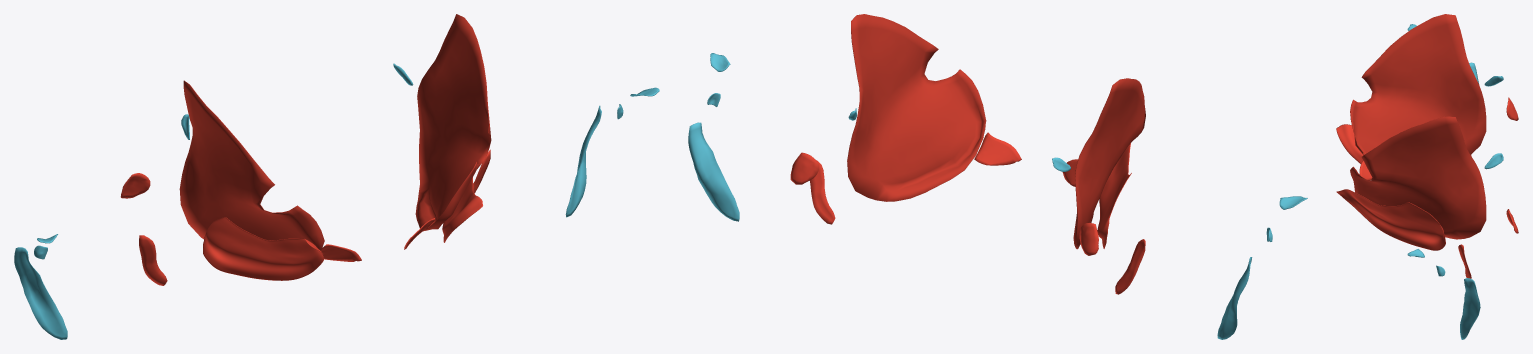
File: hip_attach_s124_female_insertions.glb
3 renders of one model, left to right at view 1: azimuth 30°, elevation 25°; view 2: azimuth 150°, elevation 25°; view 3: azimuth 270°, elevation 25°, orthographic. The views are drawn at different scales.
Visible parts, largest first — view 1: Obturator internus origin and insertion.l, Obturator internus origin and insertion.r, Obturator externus origin and insertion.r, Quadratus femoris origin and insertion.r, Quadratus femoris origin and insertion.l, Obturator externus origin and insertion.l, Levator ani origin and insertion.r, Inferior gemellus origin and insertion.r; view 2: Obturator internus origin and insertion.l, Obturator internus origin and insertion.r, Quadratus femoris origin and insertion.l, Quadratus femoris origin and insertion.r, Obturator externus origin and insertion.r, Levator ani origin and insertion.l, Inferior gemellus origin and insertion.l, Inferior gemellus origin and insertion.r; view 3: Obturator internus origin and insertion.r, Obturator internus origin and insertion.l, Obturator externus origin and insertion.l, Quadratus femoris origin and insertion.l, Obturator externus origin and insertion.r, Levator ani origin and insertion.r, Inferior gemellus origin and insertion.l, Inferior gemellus origin and insertion.r, Levator ani origin and insertion.l.
Part boxes in pixels (bbox=[...]): Obturator internus origin and insertion.l: bbox=[415, 14, 659, 231]; Obturator internus origin and insertion.r: bbox=[40, 80, 324, 250]; Obturator externus origin and insertion.r: bbox=[34, 217, 323, 280]; Quadratus femoris origin and insertion.r: bbox=[14, 235, 167, 339]; Quadratus femoris origin and insertion.l: bbox=[473, 105, 601, 217]; Obturator externus origin and insertion.l: bbox=[442, 104, 623, 242]; Levator ani origin and insertion.r: bbox=[181, 114, 361, 261]; Inferior gemellus origin and insertion.r: bbox=[37, 173, 150, 242]; Obturator internus origin and insertion.l: bbox=[710, 14, 986, 201]; Obturator internus origin and insertion.r: bbox=[1073, 78, 1304, 249]; Quadratus femoris origin and insertion.l: bbox=[688, 122, 835, 224]; Quadratus femoris origin and insertion.r: bbox=[1115, 239, 1252, 339]; Obturator externus origin and insertion.r: bbox=[1097, 143, 1272, 248]; Levator ani origin and insertion.l: bbox=[848, 108, 1021, 165]; Inferior gemellus origin and insertion.l: bbox=[710, 53, 818, 184]; Inferior gemellus origin and insertion.r: bbox=[1079, 196, 1307, 255]; Obturator internus origin and insertion.r: bbox=[1350, 14, 1486, 155]; Obturator internus origin and insertion.l: bbox=[1350, 116, 1486, 257]; Obturator externus origin and insertion.l: bbox=[1336, 189, 1445, 276]; Quadratus femoris origin and insertion.l: bbox=[1458, 244, 1480, 339]; Obturator externus origin and insertion.r: bbox=[1336, 124, 1362, 163]; Levator ani origin and insertion.r: bbox=[1359, 76, 1503, 180]; Inferior gemellus origin and insertion.l: bbox=[1407, 209, 1518, 257]; Inferior gemellus origin and insertion.r: bbox=[1407, 24, 1518, 120]; Levator ani origin and insertion.l: bbox=[1484, 153, 1503, 169].
Bounding box in the file's own units: 0.2573 × 0.093 × 0.0855.
